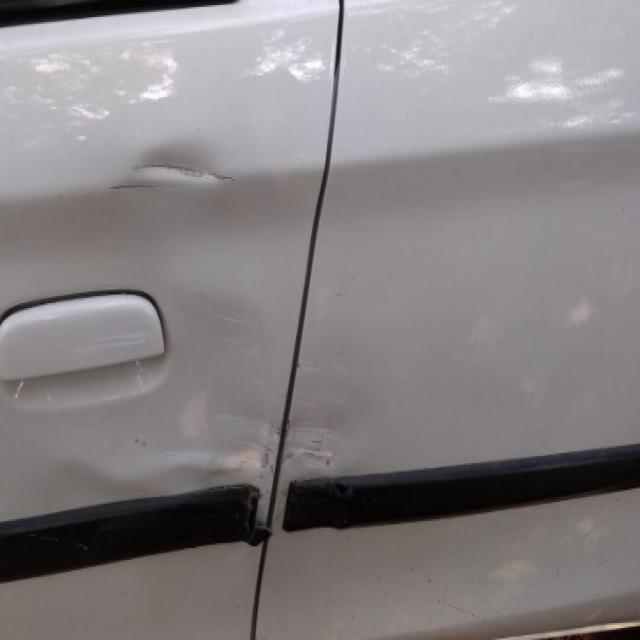dents: (86, 435, 354, 502), (104, 134, 243, 206)
